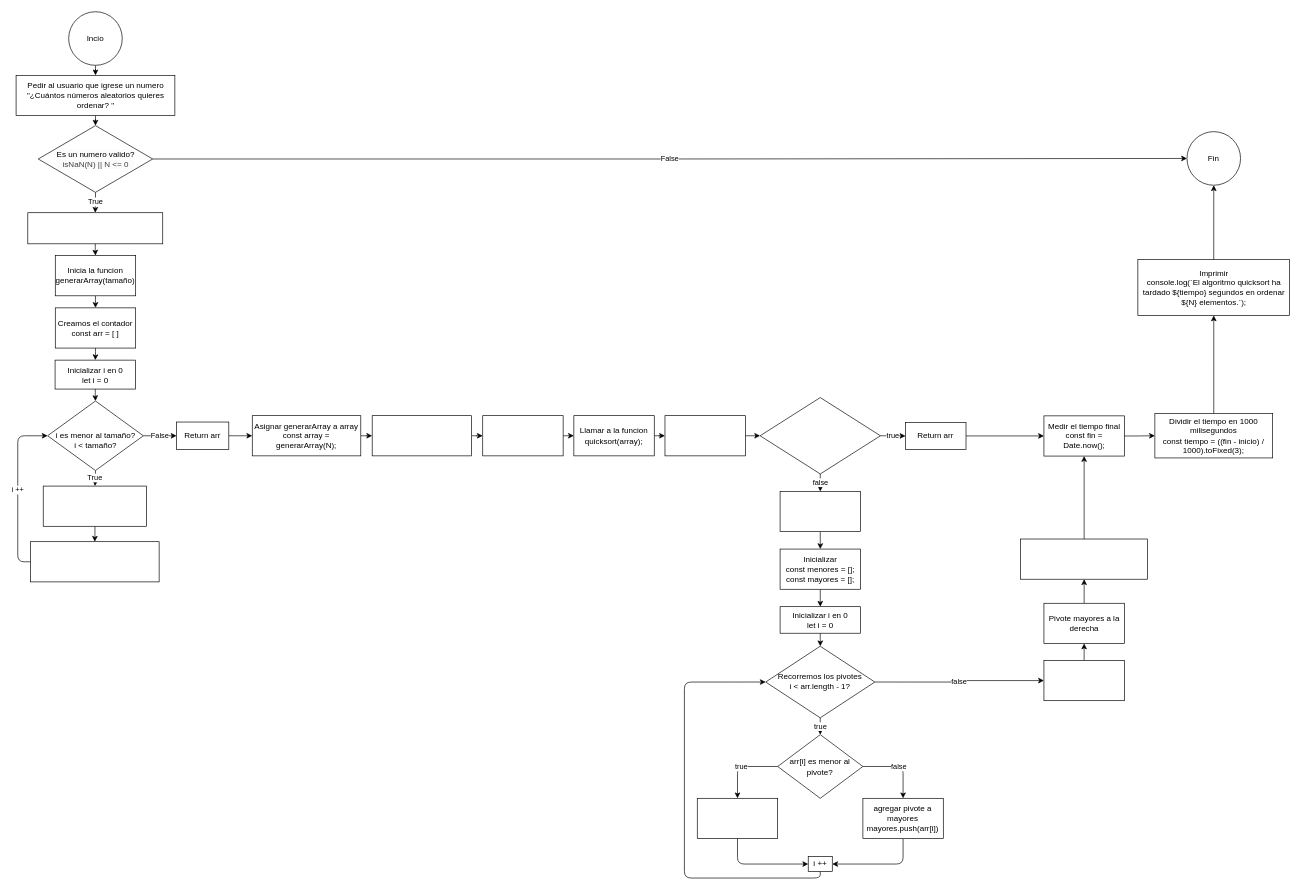
The diagram is 1301 pixels wide and 895 high, and some of its shapes have lost their labels. Here are the shapes that lost their labels. From the top down, the centre of each, then its label:
At point (95, 228): "Llamar a la funcion generarArray".
At point (422, 435): "Imprimir console.log(`Ordenando ${N} elementos..`);".
At point (522, 435): "Medir el tiempo inicial const inicio = Date.now()".
At point (704, 435): "Inicio de la funcion quicksort(array);".
At point (819, 435): "arr es menor o igal a 1? arr.length <= 1?".
At point (95, 505): "Generar un numero aleatorio entre 0 y 99999".
At point (819, 511): "Seleccionar ultimo pivote arr[arr.length - 1];".
At point (94, 561): "Agregar al contenedor arr arr.push(Math.floor(Math.random() * 100000))".
At point (1084, 558): "Retornar return [...quicksort(menores), pivote, ...quicksort(mayores)];".
At point (1083, 680): "Pivote menores a la izquierda".
At point (737, 818): "agregar pivote a menores menores.push(arr[i])".
